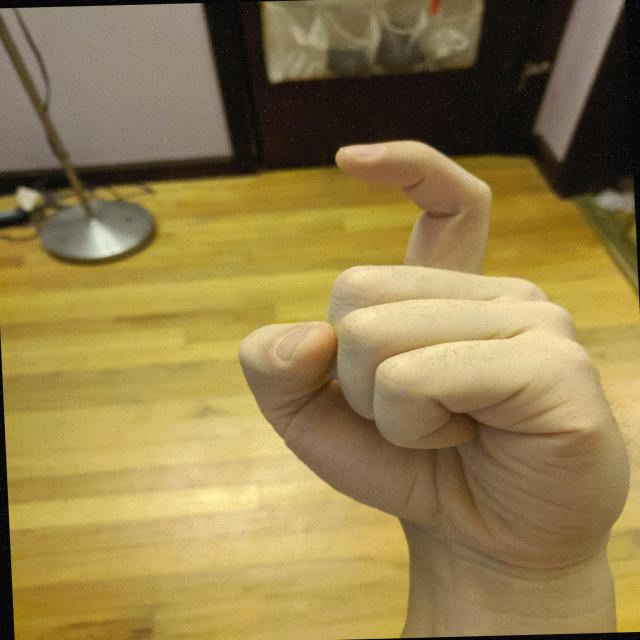X: (221, 130, 640, 558)
